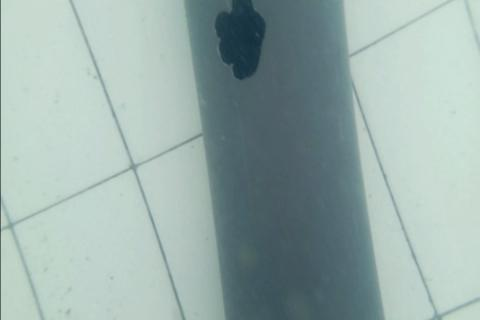kebocoran: (212, 0, 268, 81)
